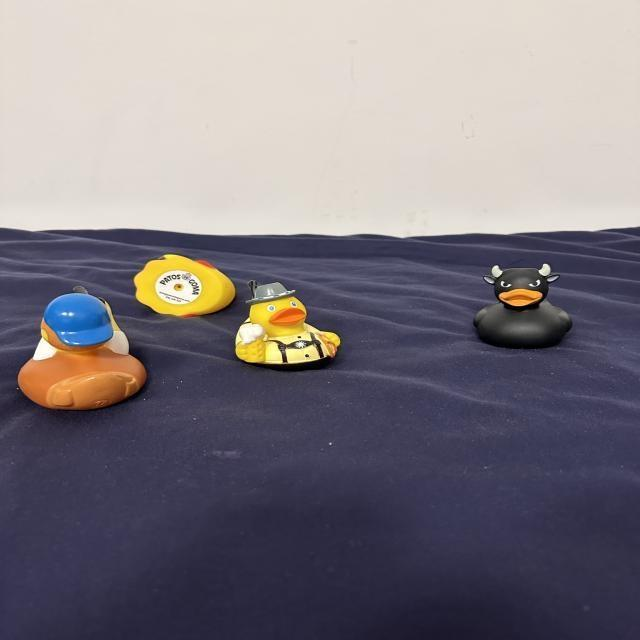rubber-duck: (17, 288, 144, 408), (234, 280, 339, 363), (473, 262, 570, 346), (133, 253, 234, 314)
